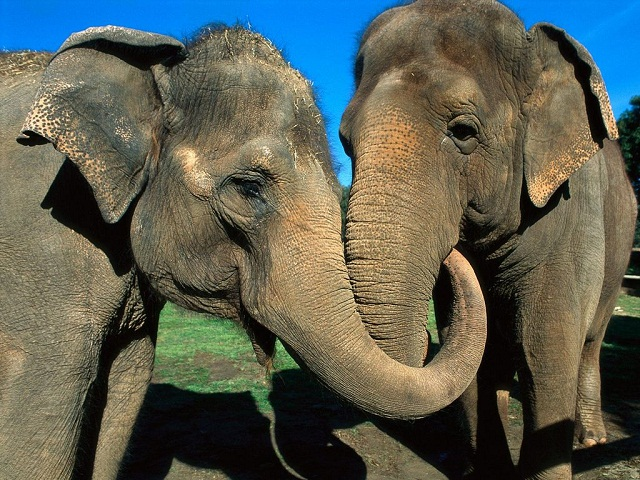Elephant: (3, 10, 500, 475)
